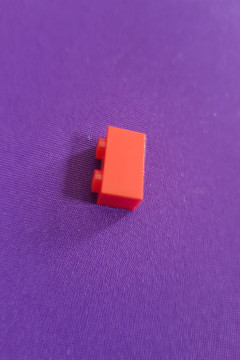1x2 red: (90, 125, 148, 213)
